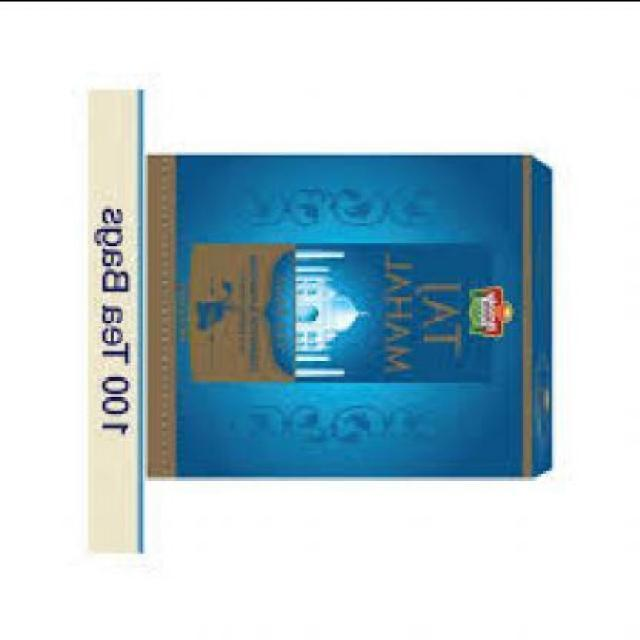box: (151, 157, 557, 481)
